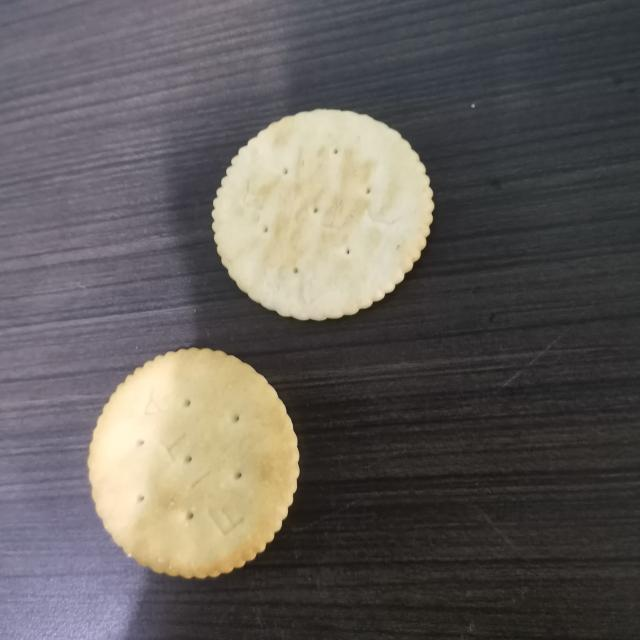Intact: (69, 336, 314, 589), (199, 95, 443, 332)
